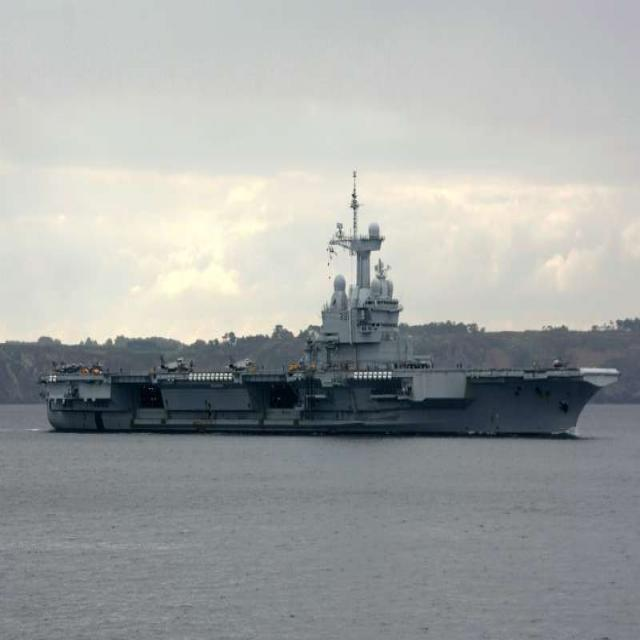Portanaves: (31, 163, 622, 441)
